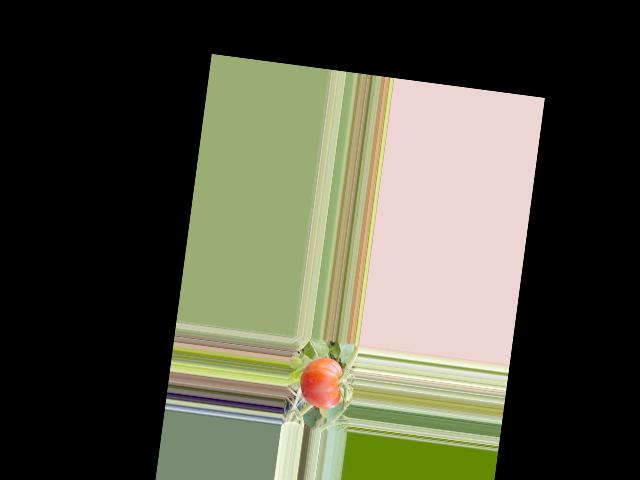tomato: (296, 355, 345, 411)
